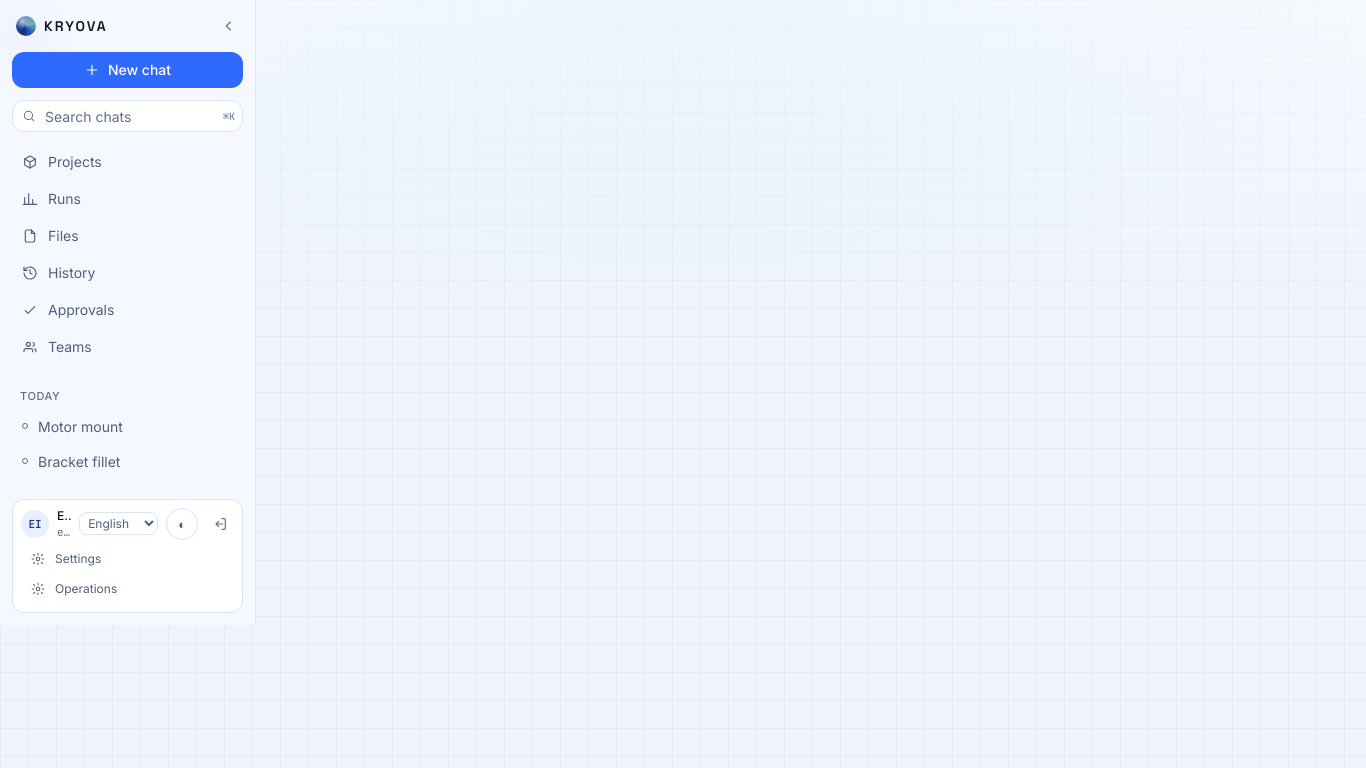
it: searching › does not show the answer to a query the person has since changed
Type "ab" into the search field named "search conversations" at (128, 116), box x1=12 y1=100 x2=243 y2=132
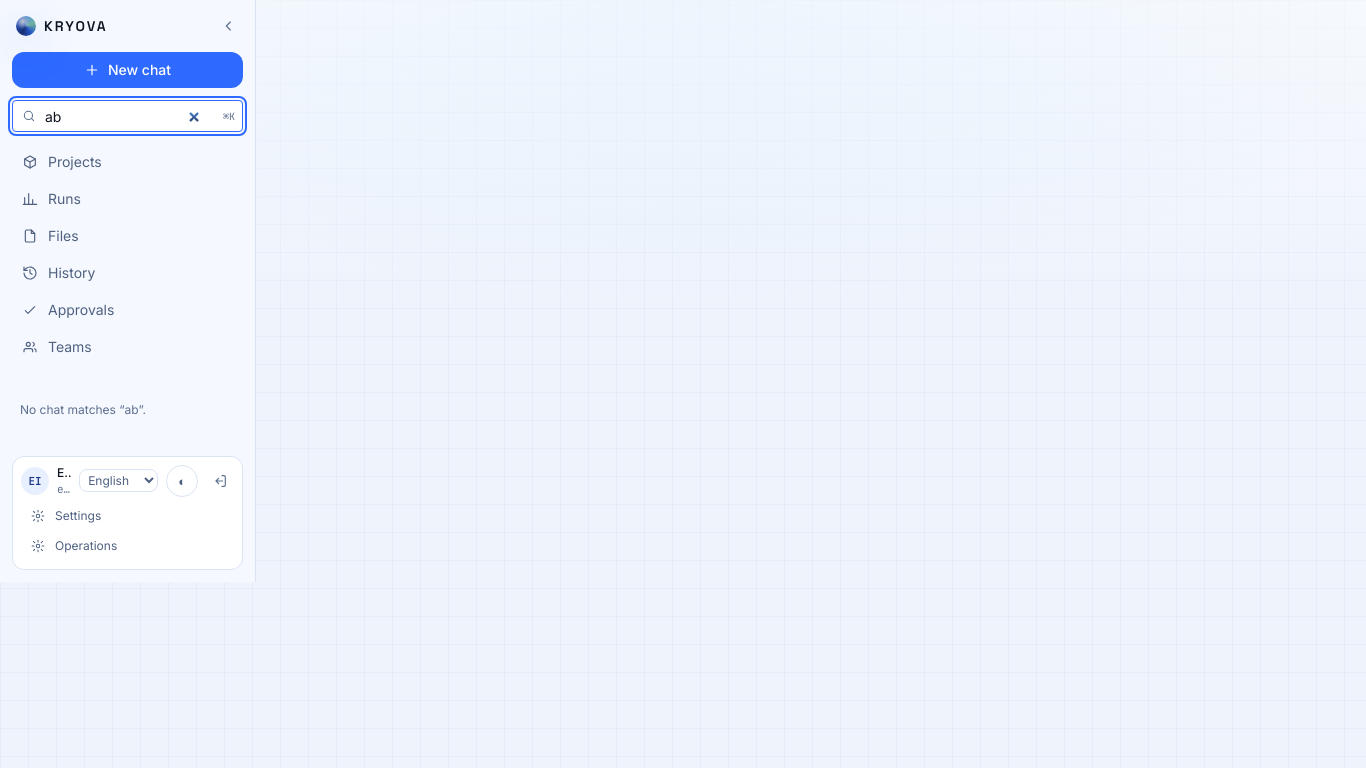
Type "c" into the search field named "search conversations" at (128, 116), box x1=12 y1=100 x2=243 y2=132
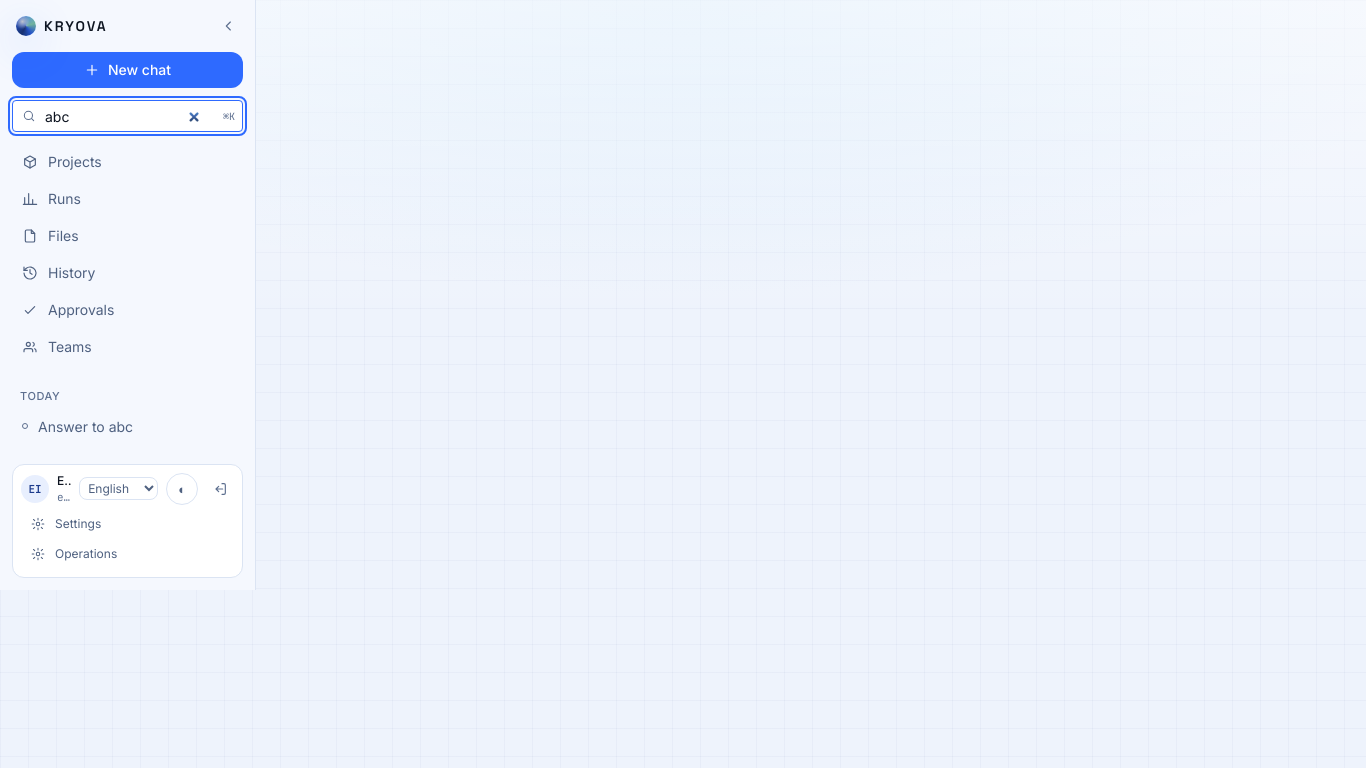
Expected: the text "Answer to abc" is shown, x1=38 y1=416 x2=133 y2=436
